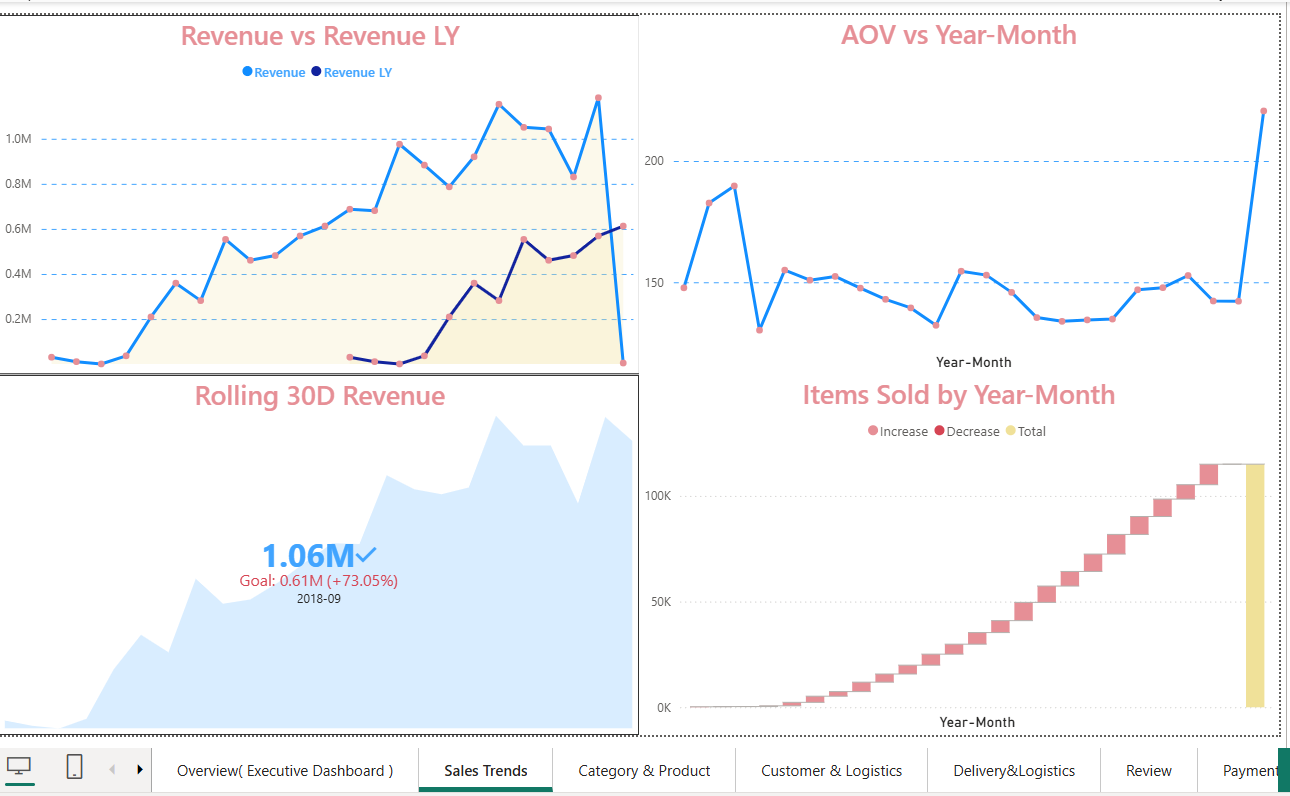

This screenshot's page, from the dashboard's own definition file:
{"tool":"powerbi","page":{"name":"Sales Trends","canvas":[1280,720],"ordinal":1},"visuals":[{"type":"lineChart","title":"Revenue vs Revenue LY ","fields":{"Category":["DimDate.Year-Month"],"Y":["public bi_fact_sales.Revenue","public bi_fact_sales.Revenue LY"]},"box":[0,0,640.6,359.4],"z":0},{"type":"kpi","title":"Rolling 30D Revenue","fields":{"Indicator":["public bi_fact_sales.Rolling 30D Revenue"],"TrendLine":["DimDate.Year-Month"],"Goal":["DimDate.Rolling 30D Revenue LY"]},"box":[0,360,640,360],"z":1000},{"type":"lineChart","title":"AOV vs Year-Month","fields":{"Category":["DimDate.Year-Month"],"Y":["public bi_fact_sales.AOV"]},"box":[640,0,640,360],"z":2000},{"type":"waterfallChart","fields":{"Category":["DimDate.Year-Month"],"Y":["public bi_fact_sales.Items Sold"]},"box":[640,360,640,360],"z":3000}]}

Visuals, with their boxes on the page's 1280x720 design canvas (x1, y1, x2, y2). These are canvas units, not pixel positions in the 1290x796 screenshot, which may show the page scaled, cropped or inside an application window:
"Revenue vs Revenue LY " lineChart: bbox=(0, 0, 641, 359)
"Rolling 30D Revenue" kpi: bbox=(0, 360, 640, 720)
"AOV vs Year-Month" lineChart: bbox=(640, 0, 1280, 360)
waterfallChart - DimDate.Year-Month x public bi_fact_sales.Items Sold: bbox=(640, 360, 1280, 720)
